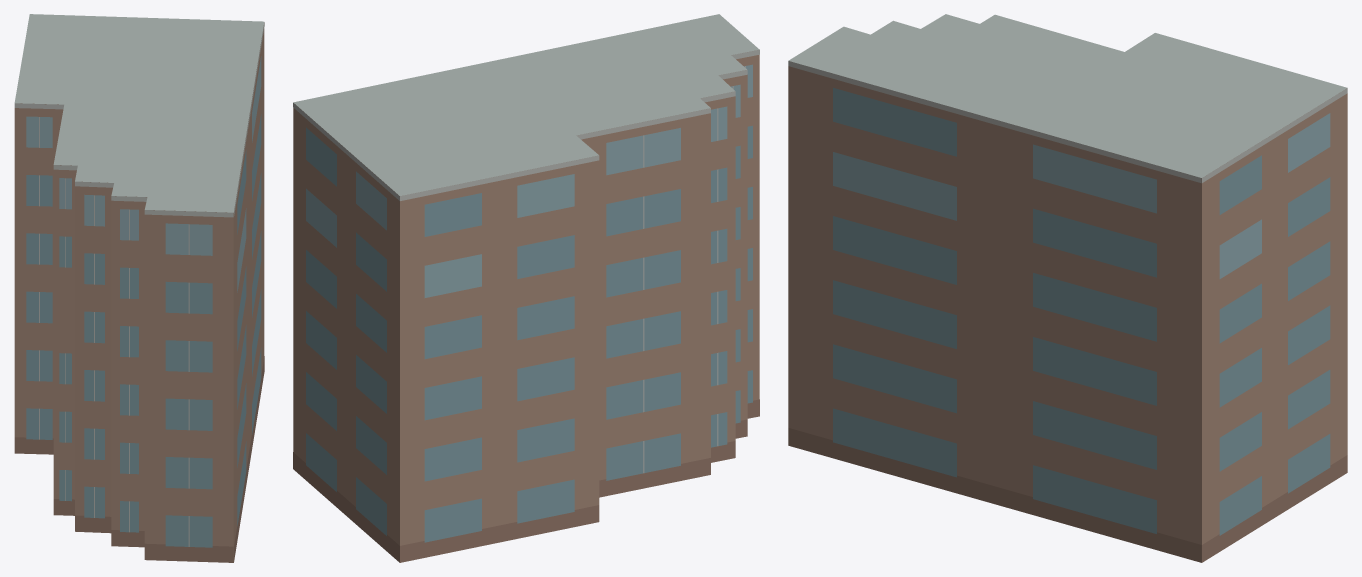
The model's file is survey-upis-32989975.glb.
3 renders of one model, left to right at view 1: azimuth 30°, elevation 25°; view 2: azimuth 150°, elevation 25°; view 3: azimuth 270°, elevation 25°, orthographic. The views are drawn at different scales.
Parts seen in each view (by area): view 1: survey-upis-32989975.tmp; view 2: survey-upis-32989975.tmp; view 3: survey-upis-32989975.tmp.
Part boxes in pixels (bbox=[...]): survey-upis-32989975.tmp: bbox=[14, 14, 264, 562]; survey-upis-32989975.tmp: bbox=[293, 14, 759, 562]; survey-upis-32989975.tmp: bbox=[788, 14, 1347, 562].
Size of the model in its own units: 16.32 by 17.84 by 23.51.
